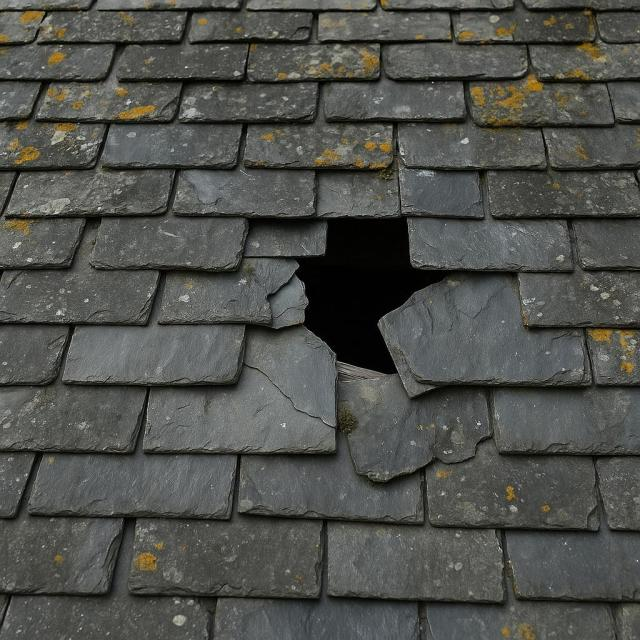trou: (286, 206, 459, 384)
